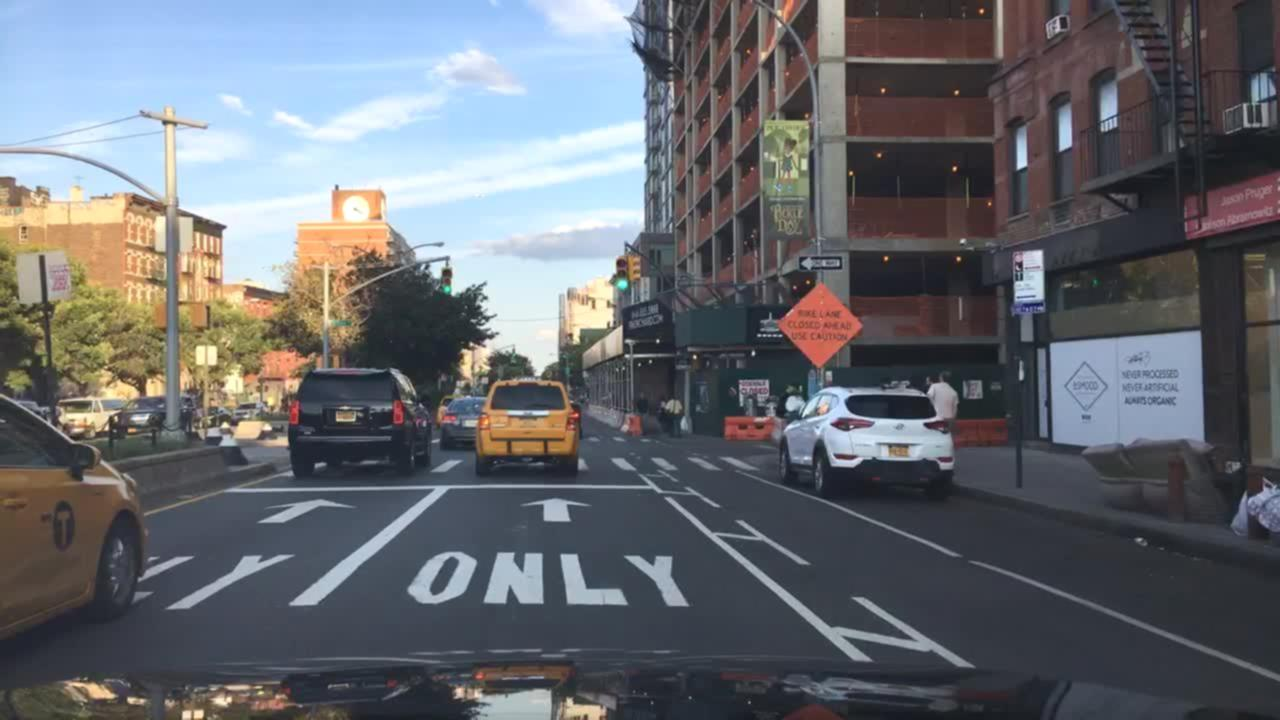Hyundai: (892, 421, 905, 432)
chevrolet: (335, 402, 354, 413)
